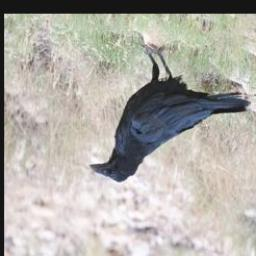Crow: (87, 38, 252, 184)
